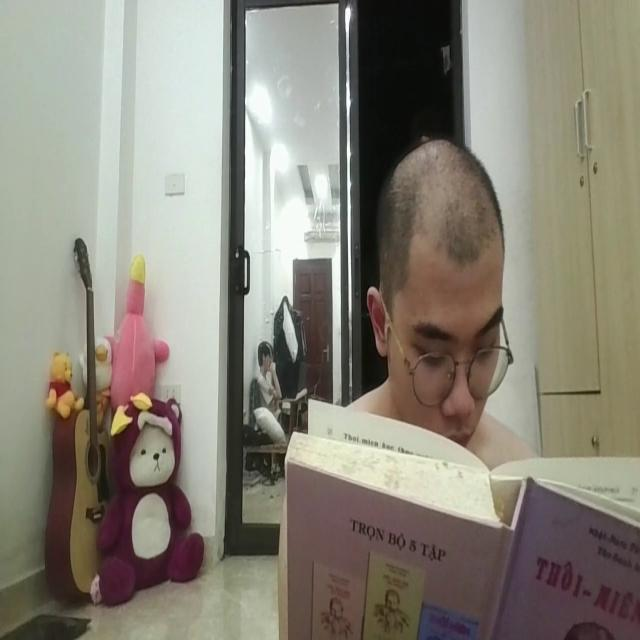book: (276, 377, 640, 640)
extra_person: (251, 327, 290, 430)
student: (351, 134, 537, 476)
